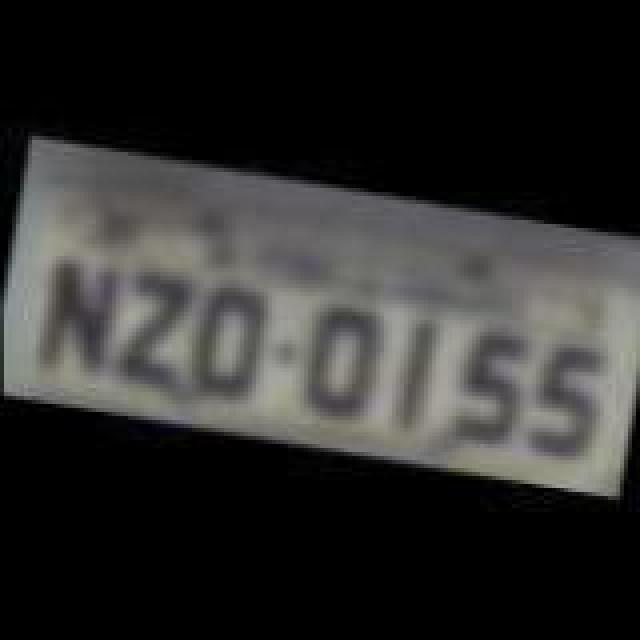1: (384, 306, 444, 430)
5: (440, 326, 536, 458), (520, 338, 608, 462)
N: (32, 258, 124, 382)
O: (296, 302, 388, 430), (182, 280, 270, 400)
Z: (108, 274, 200, 394)
